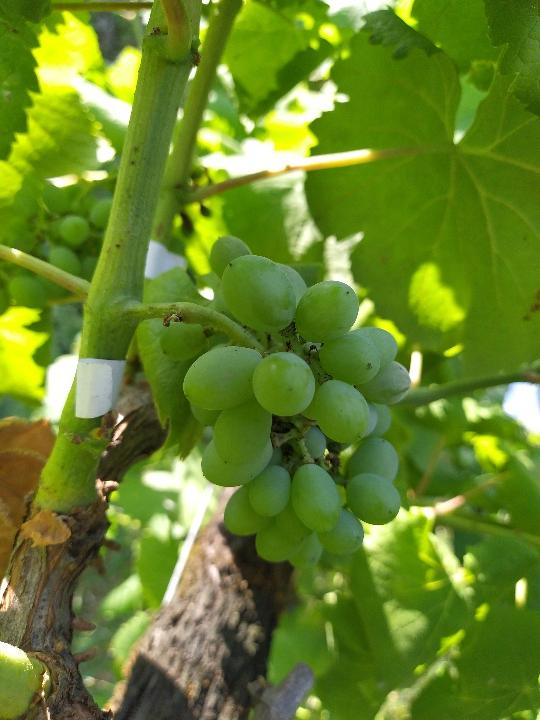grape: (162, 232, 421, 573)
